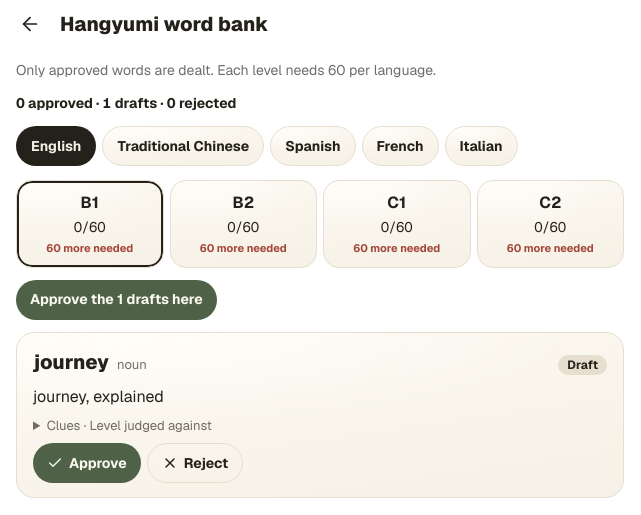
Test: the word bank's review page › puts a word back when the save fails
This screenshot has width=641, height=515.
Click the button "Reject".
click(195, 463)  # box top-left (147, 443), bottom-right (243, 483)
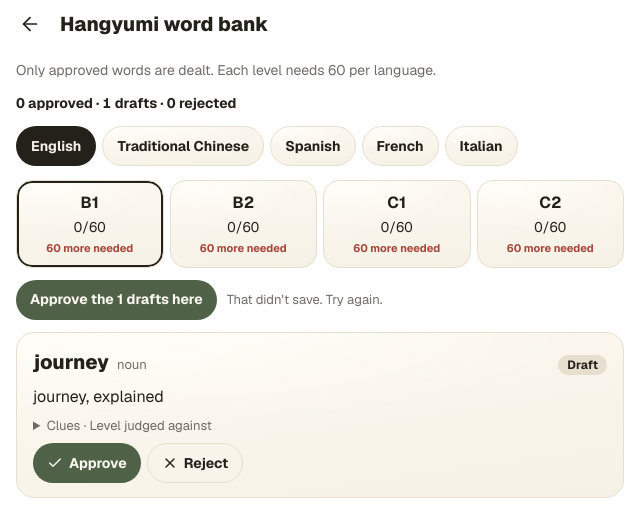
Expected: the text "Draft" is shown, top-left (558, 354), bottom-right (607, 374)
Expected: the text "That didn't save. Try again." is shown, top-left (227, 290), bottom-right (382, 309)
